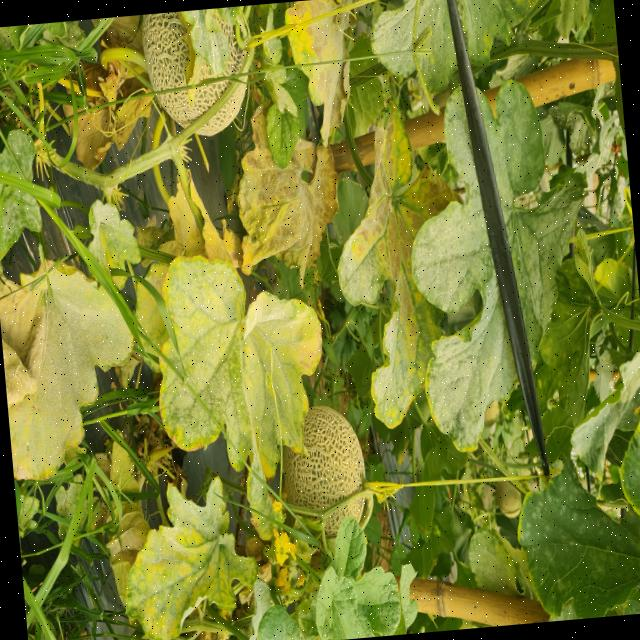melon: (282, 406, 364, 510), (141, 11, 188, 91), (157, 79, 228, 127), (196, 77, 245, 136), (214, 12, 245, 74), (323, 497, 364, 538)
